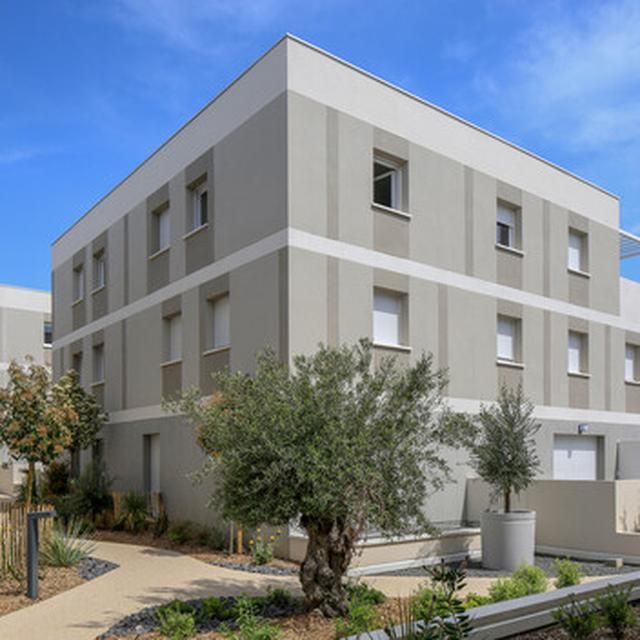building: (49, 30, 640, 545)
